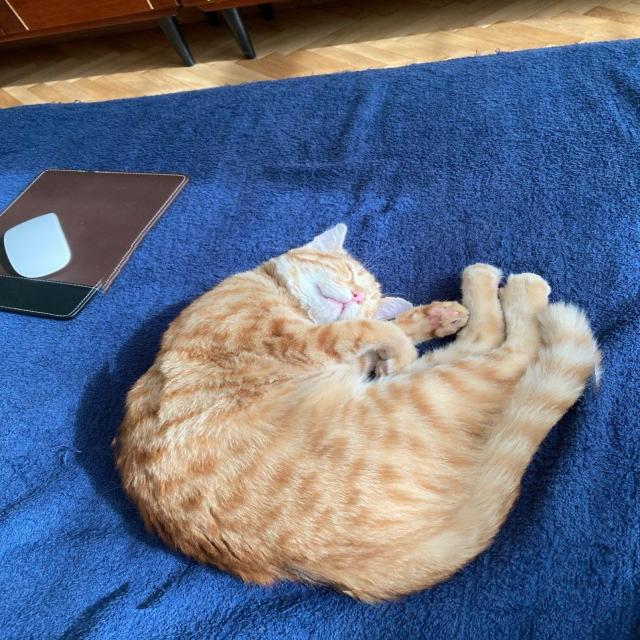red_cat: (105, 206, 605, 599)
